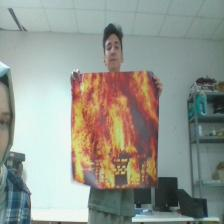fire-poster: (71, 72, 159, 190)
